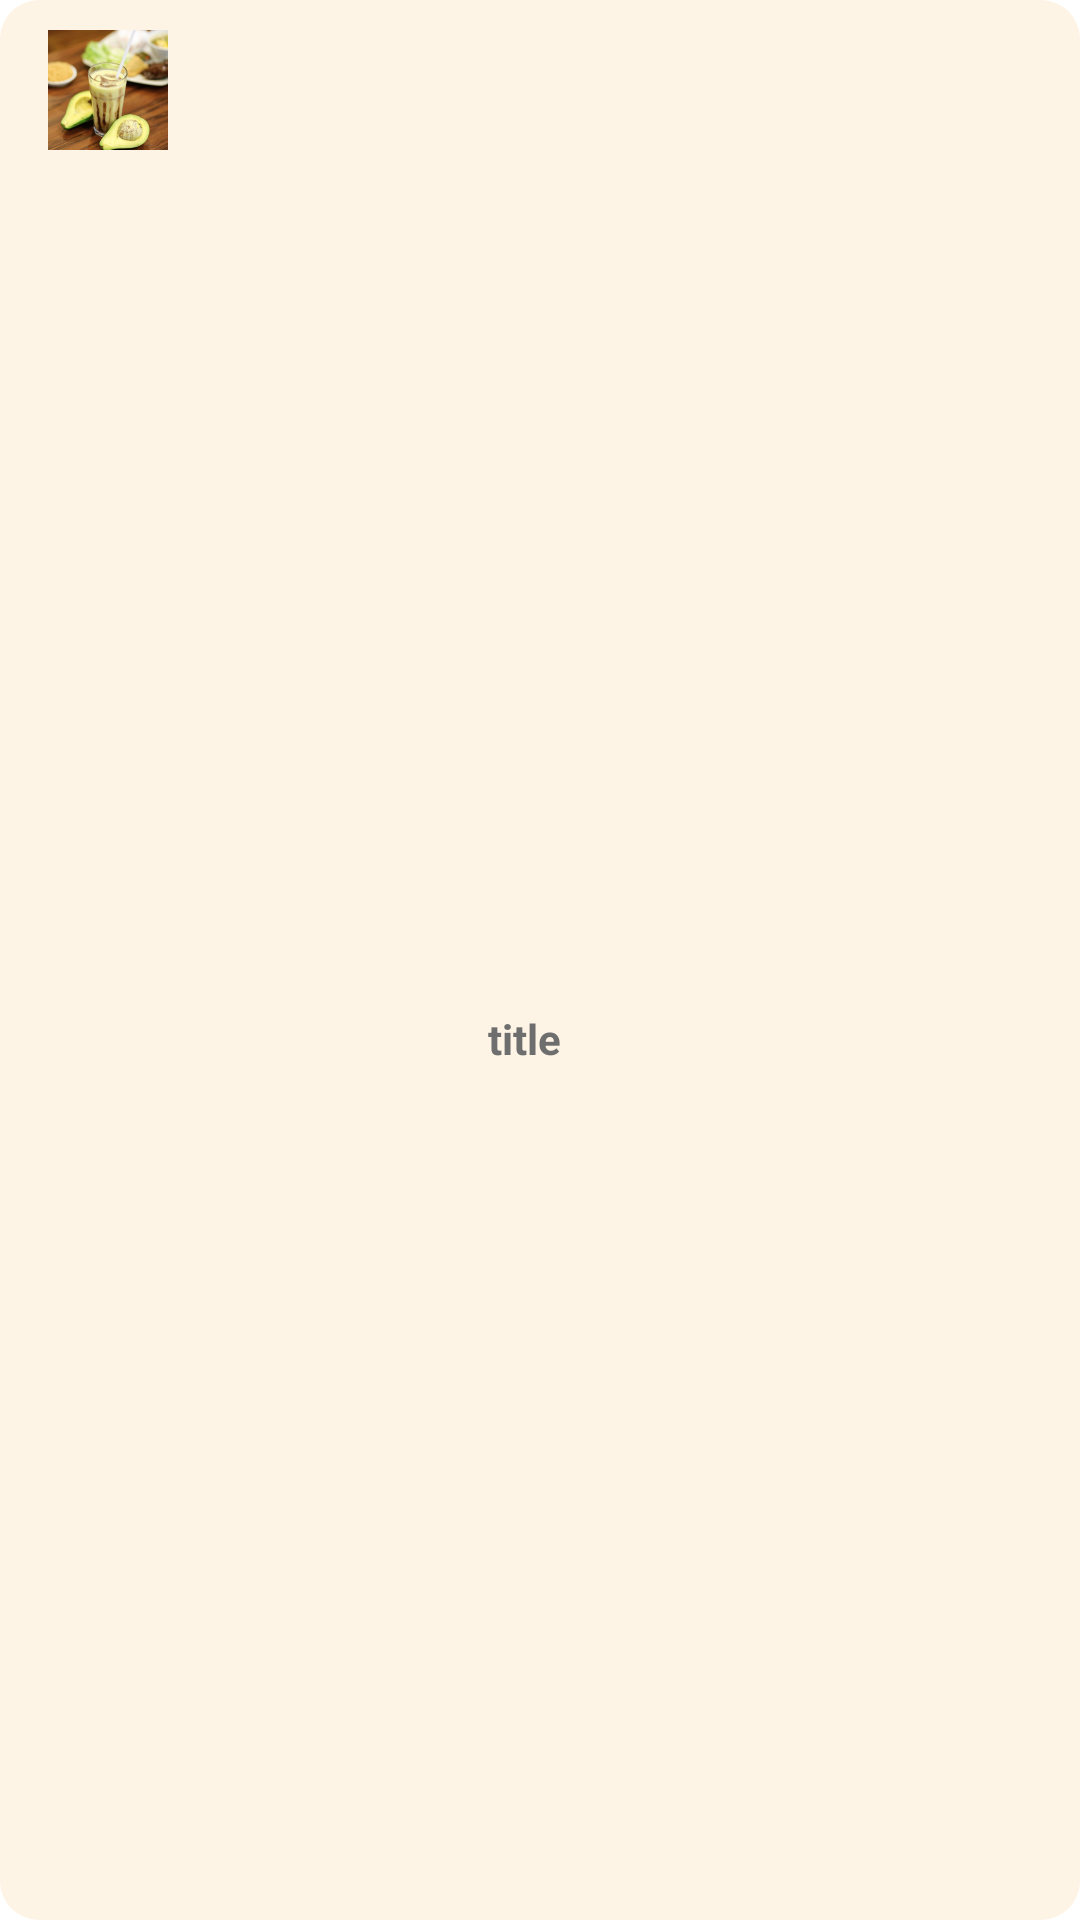

Locate icon controls on the screen. Image size 1080x1920, boxes as (x1, y1, x2, y2).
alpukat: (48, 30, 168, 150)
